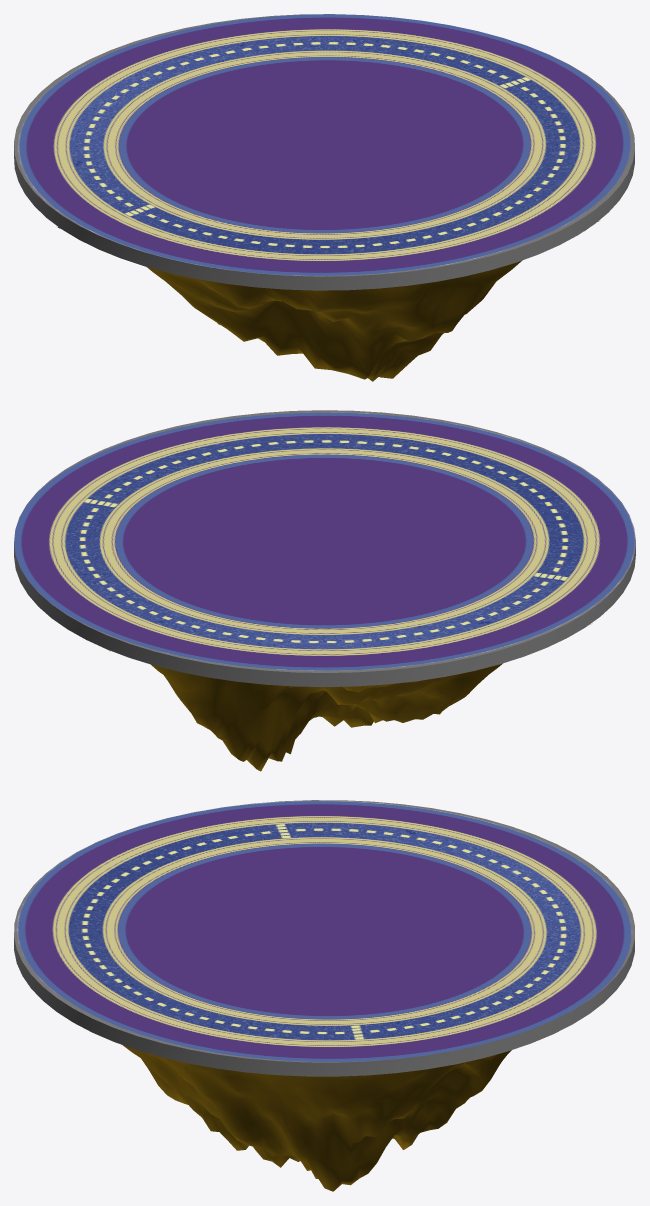
File: base-tex-noshader.glb
The picture shows the model from 3 angles, top to bottom: view 1: azimuth 30°, elevation 25°; view 2: azimuth 150°, elevation 25°; view 3: azimuth 270°, elevation 25°; orthographic projection.
Parts seen in each view (by area): view 1: Disc, Landscape; view 2: Disc, Landscape; view 3: Disc, Landscape.
Part boxes in pixels (x1,y1,x2,y2): Disc: (14, 14, 634, 290); Landscape: (57, 221, 598, 381); Disc: (14, 410, 635, 686); Landscape: (108, 624, 590, 771); Disc: (14, 800, 634, 1076); Landscape: (123, 1045, 511, 1191).
Bounding box in the file's own units: 5 × 2.01 × 5.
2 materials, 1 textured.
